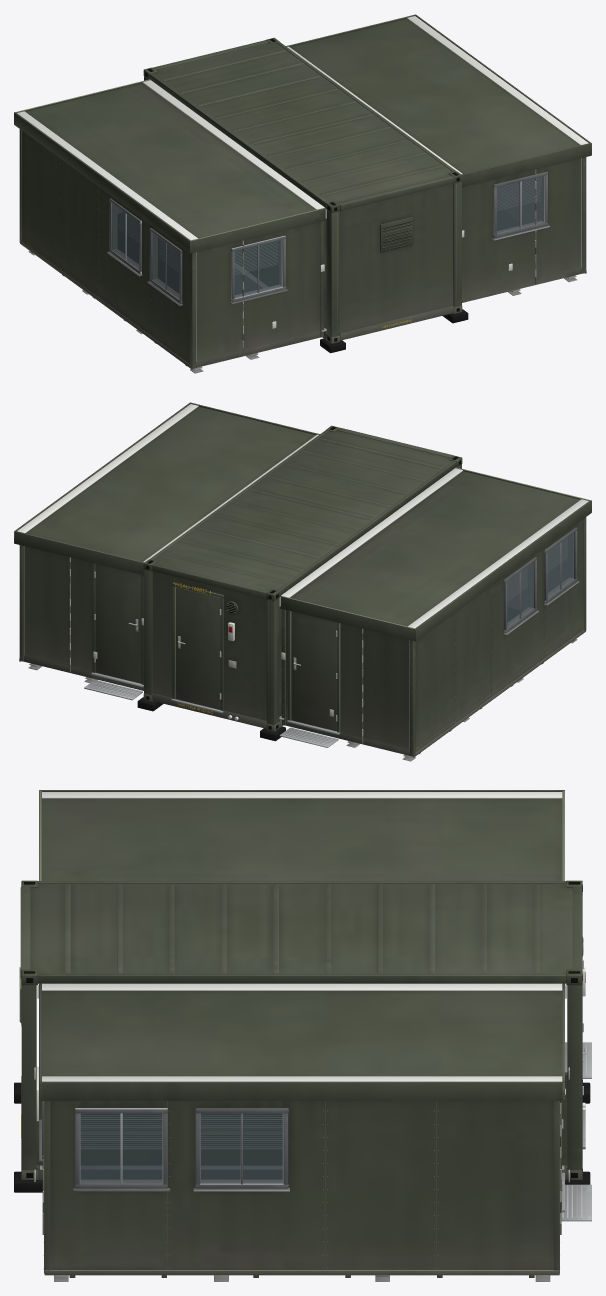
File: hercon-ar.glb
3 renders of one model, top to bottom at view 1: azimuth 30°, elevation 25°; view 2: azimuth 150°, elevation 25°; view 3: azimuth 270°, elevation 25°, orthographic. The views are drawn at different scales.
Parts seen in each view (by area): view 1: HERCON_expansion_L, HERCON_core, HERCON_expansion_R; view 2: HERCON_expansion_L, HERCON_core, HERCON_expansion_R; view 3: HERCON_expansion_R, HERCON_core, HERCON_expansion_L, HERCON_interior.
Part boxes in pixels (x1,y1,x2,y2): HERCON_expansion_L: (14,79,325,373); HERCON_core: (143,37,468,353); HERCON_expansion_R: (286,14,591,302); HERCON_expansion_L: (279,467,591,761); HERCON_core: (137,425,462,741); HERCON_expansion_R: (14,402,319,700); HERCON_expansion_R: (39,983,591,1281); HERCON_core: (14,880,590,1192); HERCON_expansion_L: (39,790,591,1078); HERCON_interior: (34,983,569,1182).
Size of the model in its own units: 7.48 by 2.56 by 6.24.
Materials: 16 (5 with a texture image).
